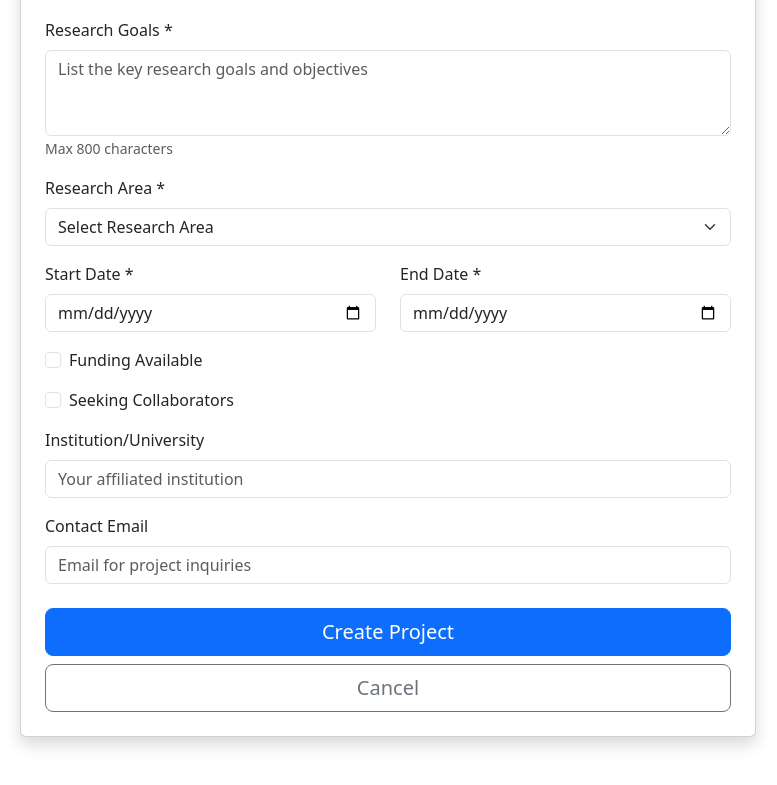
Test: CreateProject › displays error for missing required fields when submitting
(page scrolled)
Click the button "Create Project". click: {"x": 388, "y": 632}
box: [45,608,731,656]
(page scrolled)
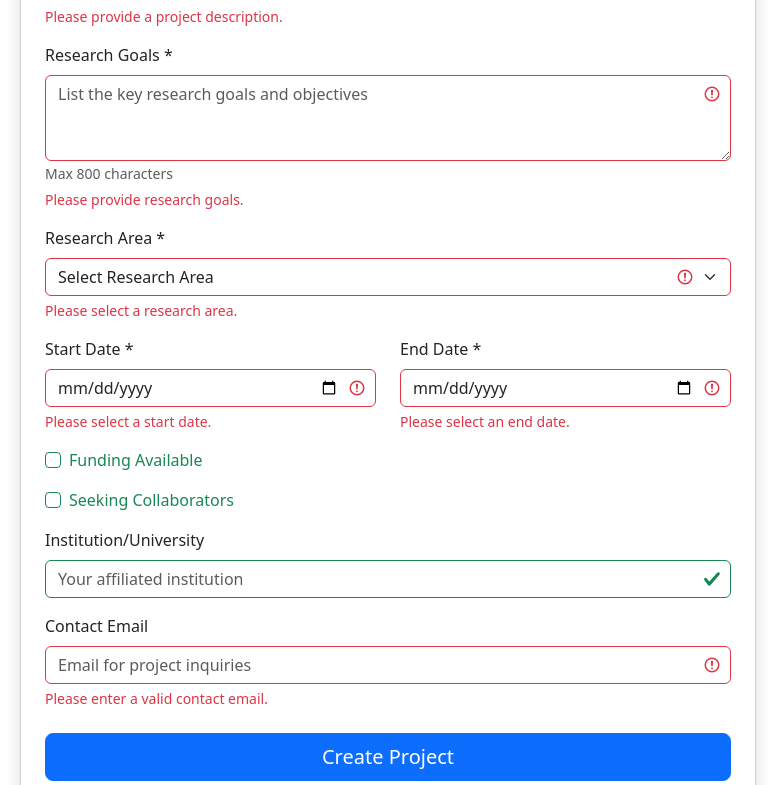
Now the text "Please provide a project description." is shown, box [45,7,283,26]
Now the text "Please provide research goals." is shown, box [45,190,244,209]
Now the text "Please select a research area." is shown, box [45,301,237,320]
